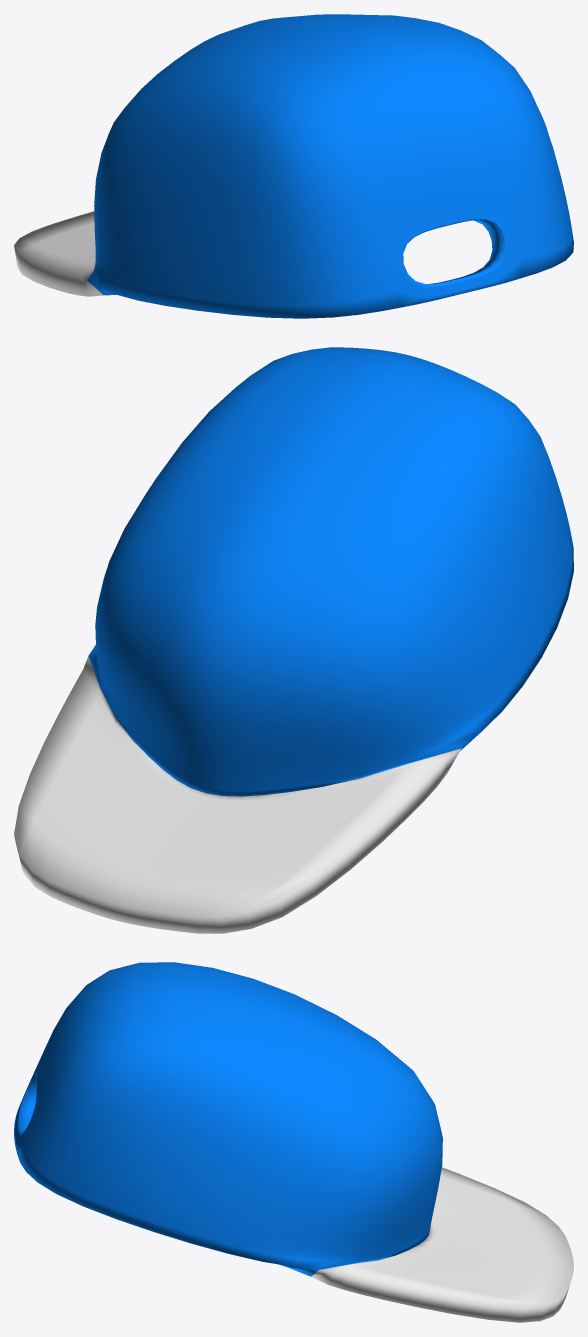
Rendered from hat2.fbx.
3 views of the same model, one above another, from view 1: azimuth 30°, elevation 25°; view 2: azimuth 150°, elevation 25°; view 3: azimuth 270°, elevation 25° (orthographic). The views are drawn at different scales.
Parts seen in each view (by area): view 1: Girl2.001; view 2: Girl2.001; view 3: Girl2.001.
Boxes of the visible parts, bbox=[...] form: Girl2.001: bbox=[14, 14, 573, 318]; Girl2.001: bbox=[14, 347, 573, 933]; Girl2.001: bbox=[14, 962, 573, 1322].
Size of the model in its own units: 370 by 338 by 577.
